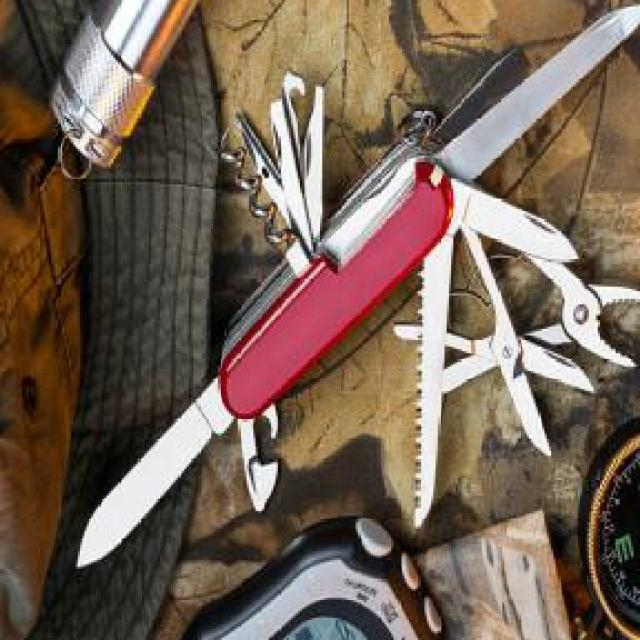knife: (75, 7, 640, 583)
